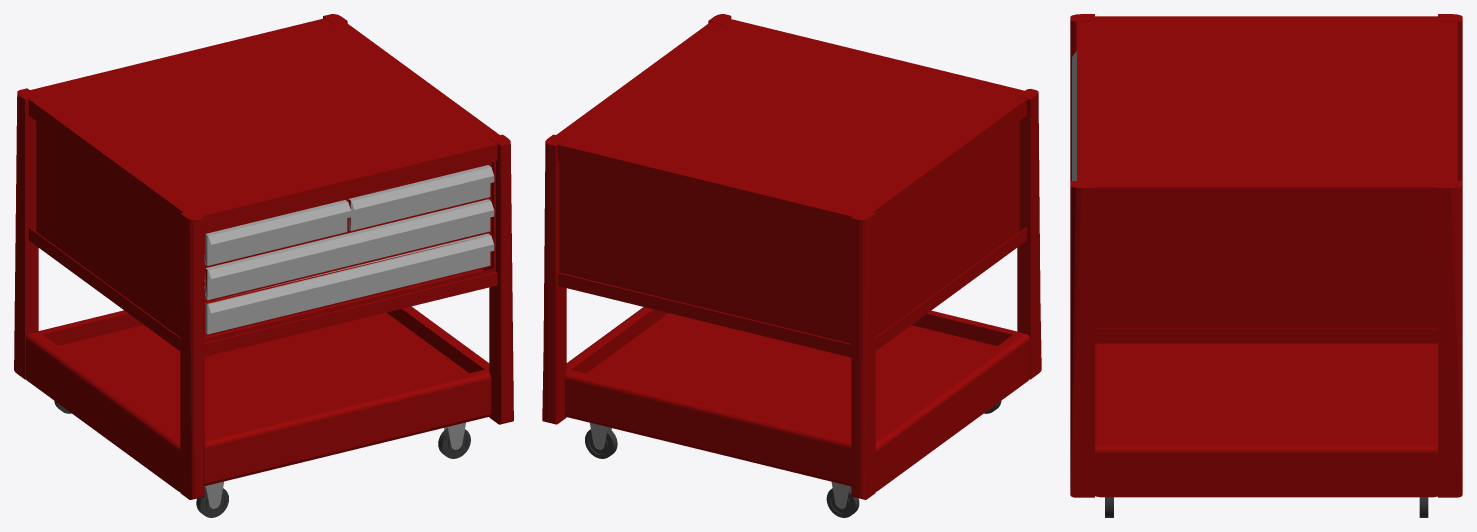
File: tool_chest_01.fbx
The picture shows the model from 3 angles, left to right: view 1: azimuth 30°, elevation 25°; view 2: azimuth 150°, elevation 25°; view 3: azimuth 270°, elevation 25°; orthographic projection. The views are drawn at different scales.
Visible parts, largest first — view 1: tool chest.010; view 2: tool chest.010; view 3: tool chest.010.
Part boxes in pixels (x1=…): tool chest.010: x1=14, y1=14, x2=513, y2=517; tool chest.010: x1=542, y1=14, x2=1041, y2=517; tool chest.010: x1=1070, y1=14, x2=1462, y2=517.
Bounding box in the file's own units: 95.09 × 89.3 × 90.59.
1 material, 1 textured.
